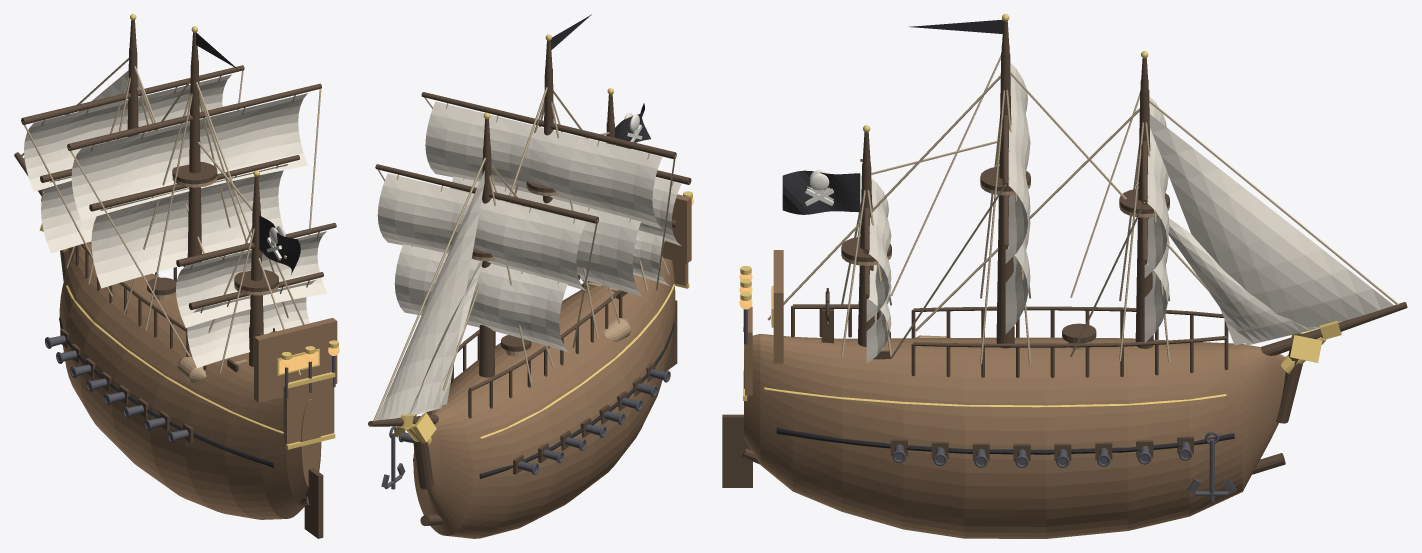
The model's file is blacktide_pirate_galleon.glb.
3 renders of one model, left to right at view 1: azimuth 30°, elevation 25°; view 2: azimuth 150°, elevation 25°; view 3: azimuth 270°, elevation 25°, orthographic. The views are drawn at different scales.
Visible parts, largest first — view 1: hull, sail_main_0, sail_main_1, sail_fore_0, sail_mizzen_0, sail_mizzen_1, stern_wall, sail_fore_1, transom, mast_main, yard_main_0, yard_fore_0 (+18 smaller); view 2: hull, sail_main_0, sail_fore_0, sail_fore_1, jib_1, sail_main_1, yard_main_0, yard_fore_0, stern_wall, sail_mizzen_0, mast_fore, sail_mizzen_1 (+11 smaller); view 3: hull, jib_1, jib_2, sail_main_0, pirate_flag, sail_fore_0, mast_main, sail_mizzen_0, rudder, gunport_strake, mast_fore, sail_main_1 (+9 smaller).
Part boxes in pixels (x1,y1,x2,y2): hull: [59, 242, 321, 519]; sail_main_0: [71, 93, 307, 220]; sail_main_1: [91, 164, 287, 288]; sail_fore_0: [24, 74, 231, 191]; sail_mizzen_0: [176, 231, 327, 327]; sail_mizzen_1: [187, 280, 315, 368]; stern_wall: [254, 318, 337, 402]; sail_fore_1: [41, 176, 96, 253]; transom: [283, 377, 334, 444]; mast_main: [187, 60, 201, 264]; yard_main_0: [67, 83, 321, 150]; yard_fore_0: [21, 65, 244, 124]; hull: [413, 258, 675, 538]; sail_main_0: [425, 101, 661, 228]; sail_fore_0: [377, 173, 585, 290]; sail_fore_1: [394, 244, 568, 352]; jib_1: [376, 170, 484, 420]; sail_main_1: [450, 176, 641, 296]; yard_main_0: [421, 92, 676, 159]; yard_fore_0: [375, 164, 598, 223]; stern_wall: [662, 194, 691, 263]; sail_mizzen_0: [638, 177, 681, 245]; mast_fore: [479, 147, 494, 377]; sail_mizzen_1: [632, 230, 669, 285]; hull: [744, 334, 1285, 538]; jib_1: [1149, 114, 1393, 345]; jib_2: [1168, 218, 1319, 345]; sail_main_0: [1005, 63, 1030, 263]; pirate_flag: [782, 170, 860, 214]; sail_fore_0: [1144, 96, 1169, 277]; mast_main: [996, 52, 1014, 348]; sail_mizzen_0: [866, 178, 891, 321]; rudder: [722, 414, 752, 487]; gunport_strake: [776, 427, 1234, 454]; mast_fore: [1135, 89, 1153, 348]; sail_main_1: [1005, 220, 1030, 334].
Size of the model in its own units: 7 by 12.17 by 14.57.
